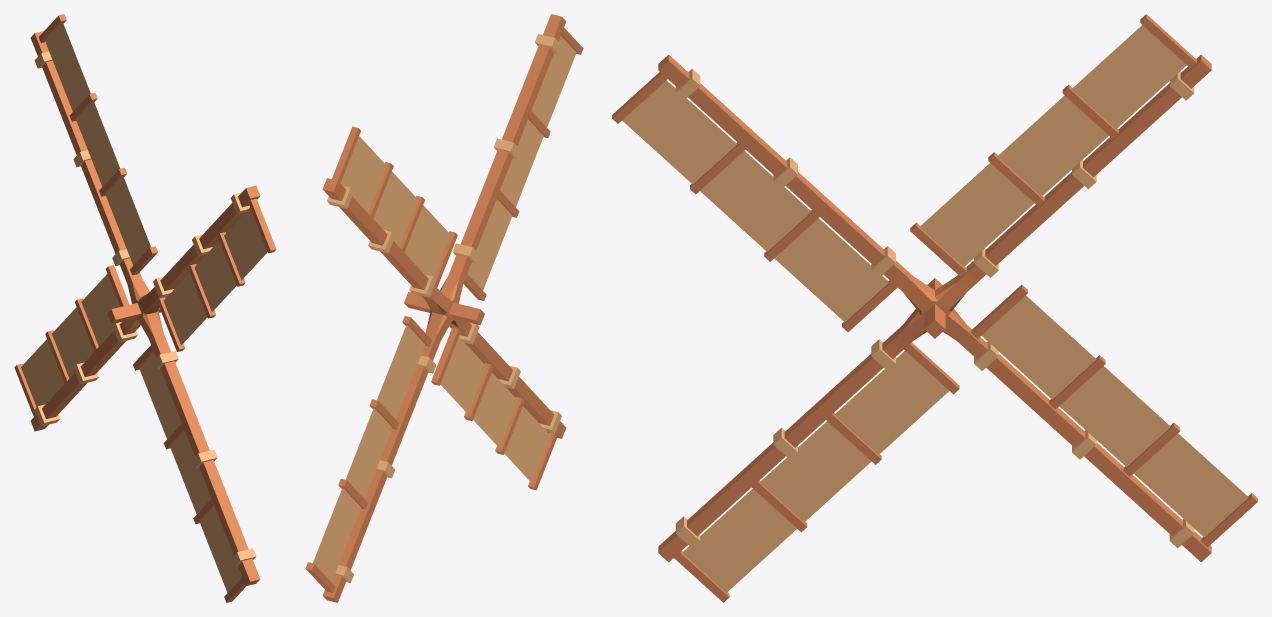
The model's file is windmill.obj.
3 views of the same model, side by side, from view 1: azimuth 30°, elevation 25°; view 2: azimuth 150°, elevation 25°; view 3: azimuth 270°, elevation 25° (orthographic). The views are drawn at different scales.
Parts seen in each view (by area): view 1: windmill; view 2: windmill; view 3: windmill.
Part boxes in pixels (box(x1,y1,x2,y2)): windmill: box(14, 14, 276, 602); windmill: box(305, 14, 583, 602); windmill: box(612, 14, 1257, 602).
Bounding box in the file's own units: 0.471 × 3.07 × 3.07.
